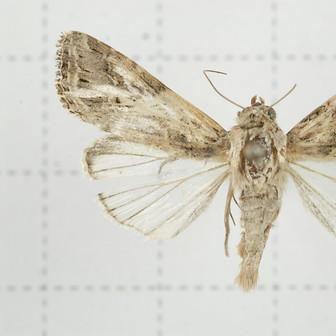Spodoptera litura: (55, 30, 336, 292)
